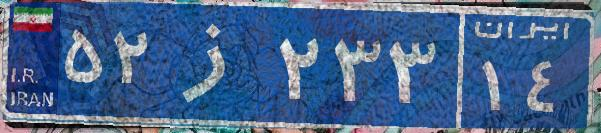1: (475, 38, 525, 113)
2: (273, 28, 330, 110), (110, 28, 158, 105)
3: (385, 28, 445, 110), (330, 28, 385, 110)
4: (525, 38, 570, 115)
5: (57, 26, 110, 107)
ز: (158, 15, 273, 115)
